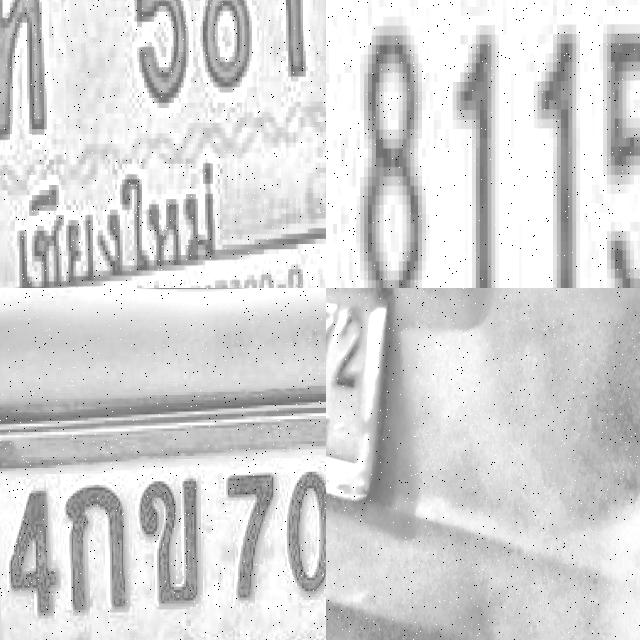license-plate: (0, 0, 326, 288), (326, 0, 640, 288), (0, 391, 326, 640), (326, 288, 370, 466)
